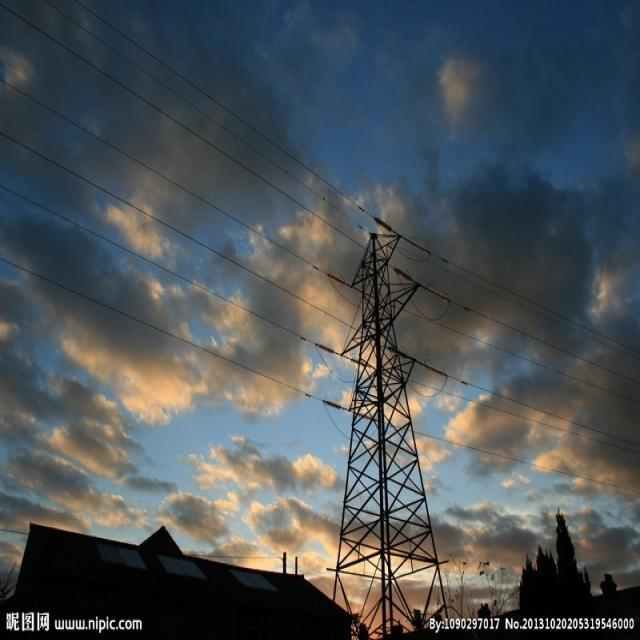non-critical vegetation: (326, 213, 444, 622)
